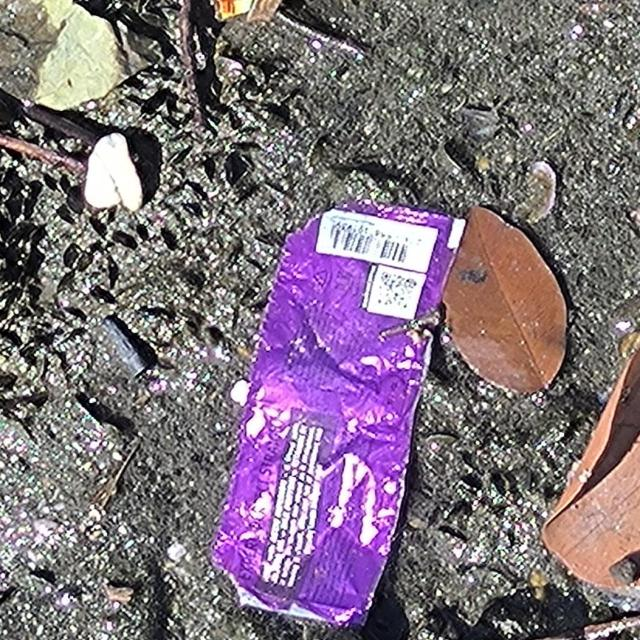plastic_waste: (210, 201, 468, 625)
